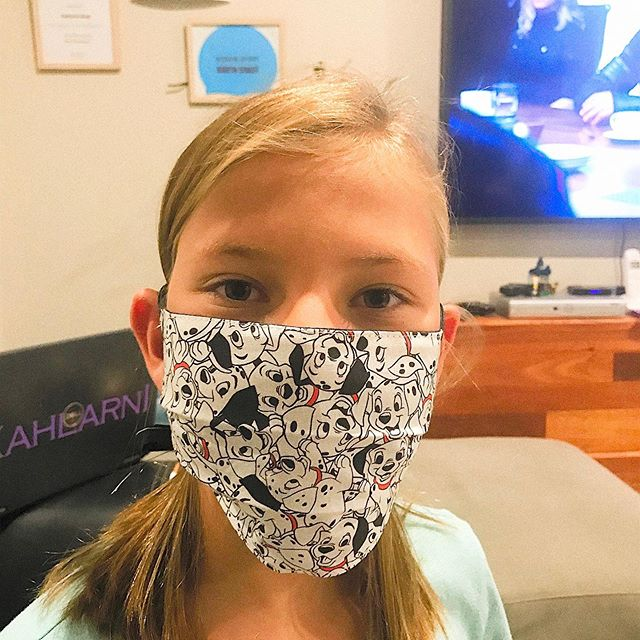homemade: (149, 302, 443, 585)
